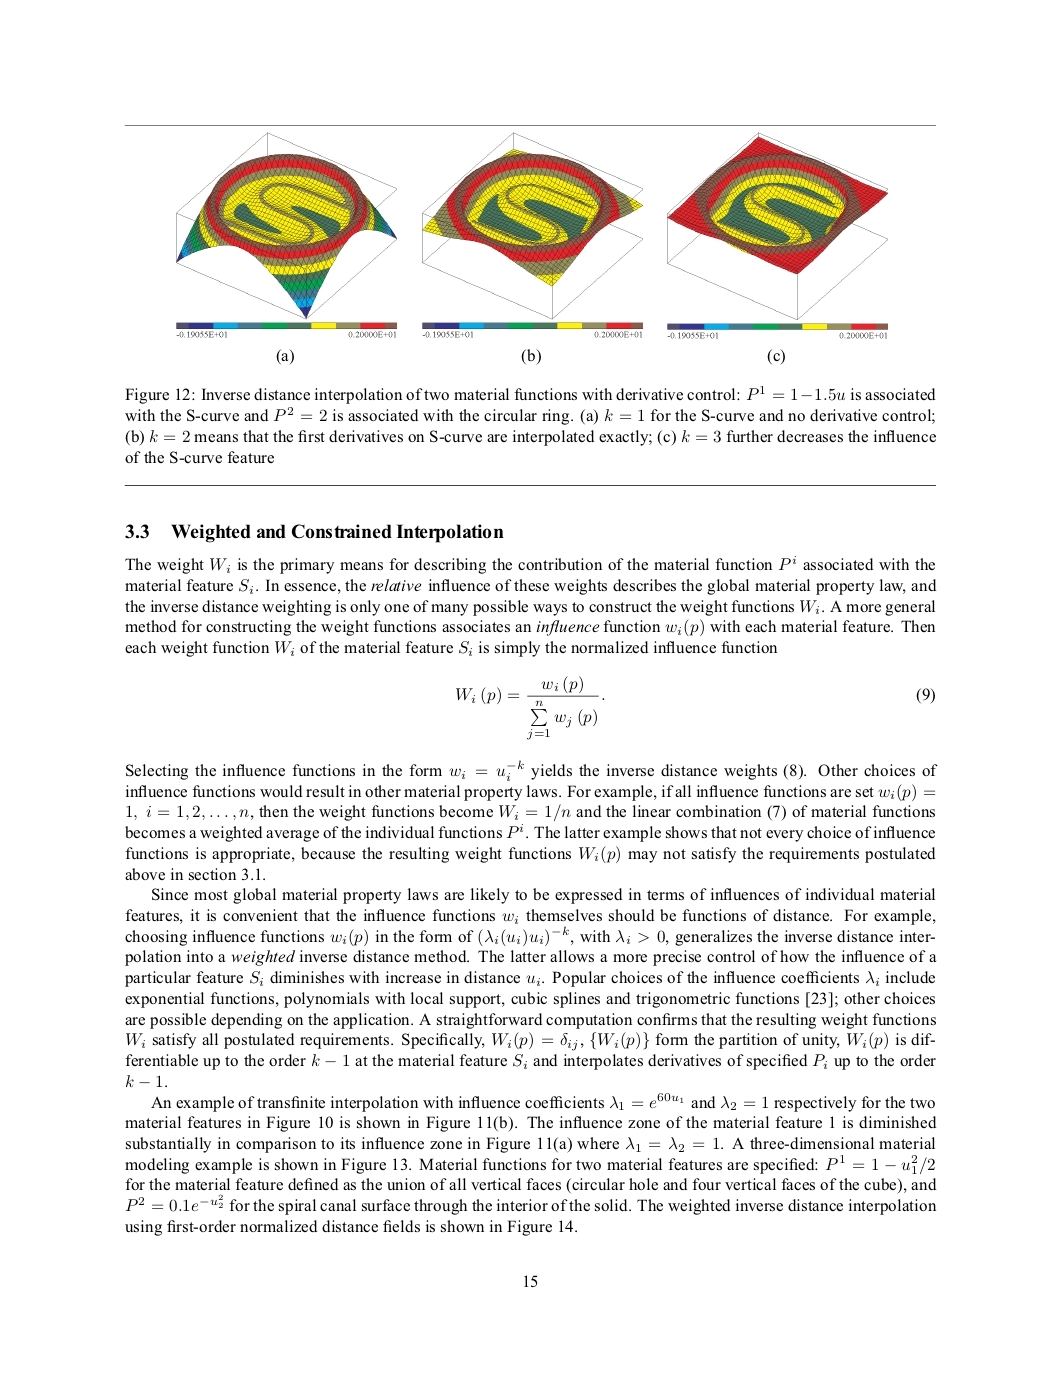figure: (176, 132, 396, 338), (422, 132, 642, 338), (666, 132, 887, 320), (666, 322, 887, 339)
formula: (456, 676, 934, 739)
